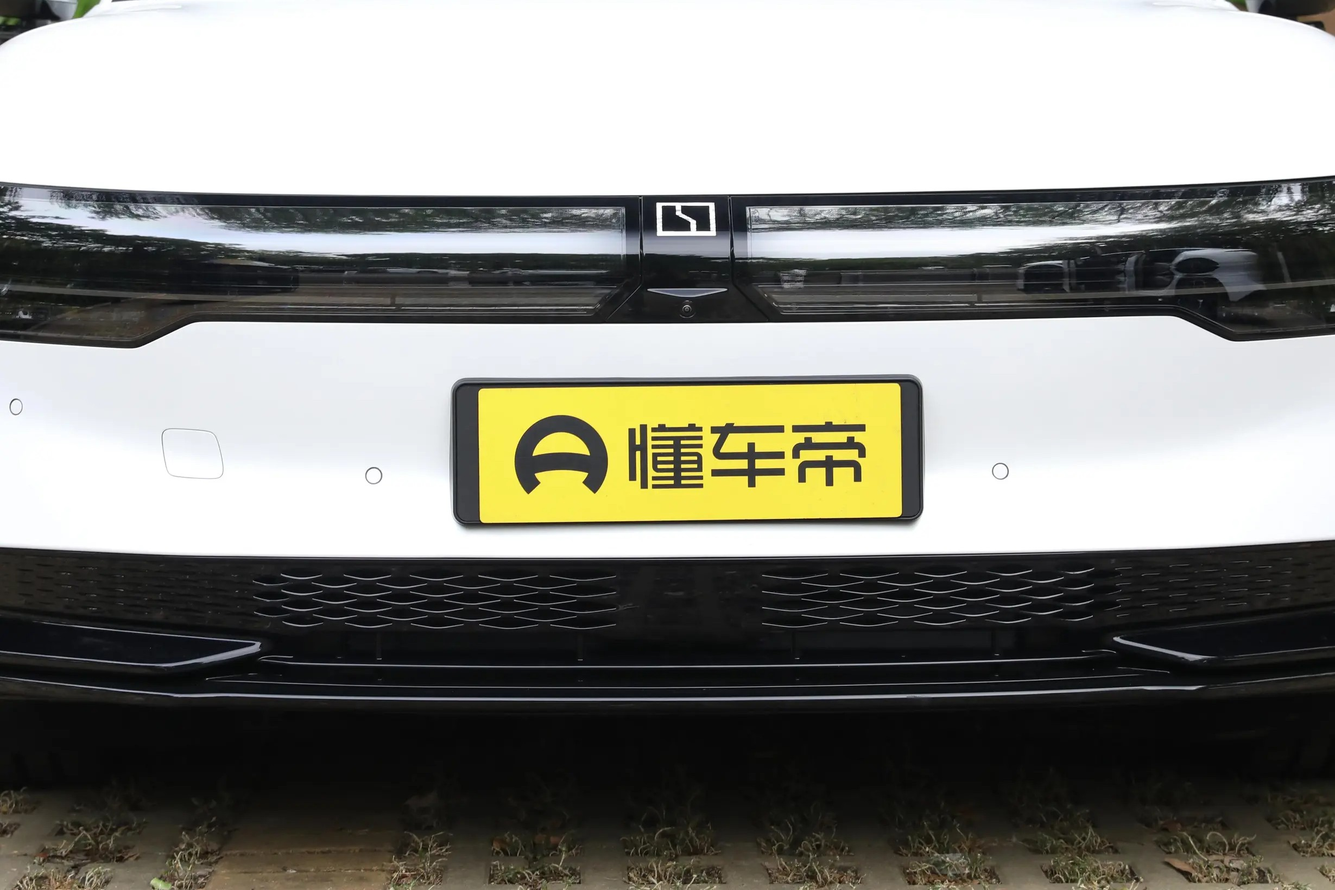ZEEKR: (657, 203, 716, 235)
